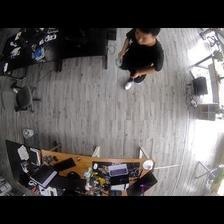normal: (115, 28, 164, 90)
